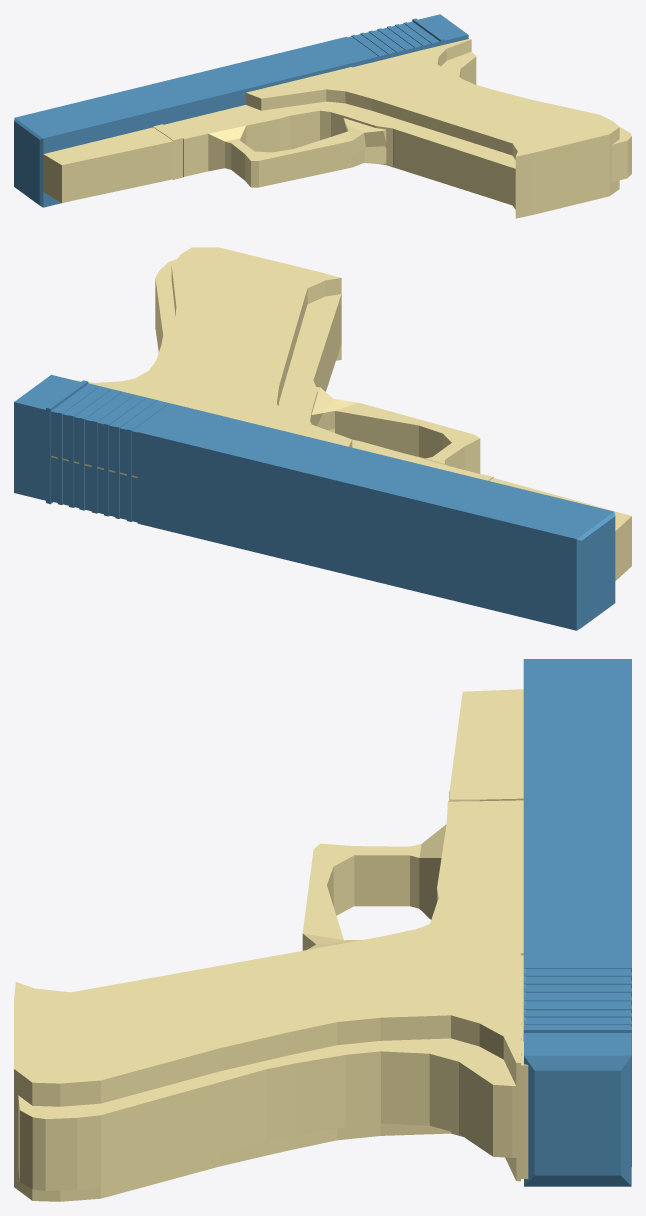
File: glock.fbx
The picture shows the model from 3 angles, top to bottom: view 1: azimuth 30°, elevation 25°; view 2: azimuth 150°, elevation 25°; view 3: azimuth 270°, elevation 25°; orthographic projection. The views are drawn at different scales.
Parts seen in each view (by area): view 1: glock_handle, glock_barrel; view 2: glock_barrel, glock_handle; view 3: glock_handle, glock_barrel.
Part boxes in pixels (<box>): glock_handle: <box>43,38,631,218</box>; glock_barrel: <box>14,14,468,207</box>; glock_barrel: <box>14,375,615,630</box>; glock_handle: <box>50,247,631,580</box>; glock_handle: <box>14,689,528,1201</box>; glock_barrel: <box>523,659,631,1186</box>.
Size of the model in its own units: 966 by 143 by 584.
